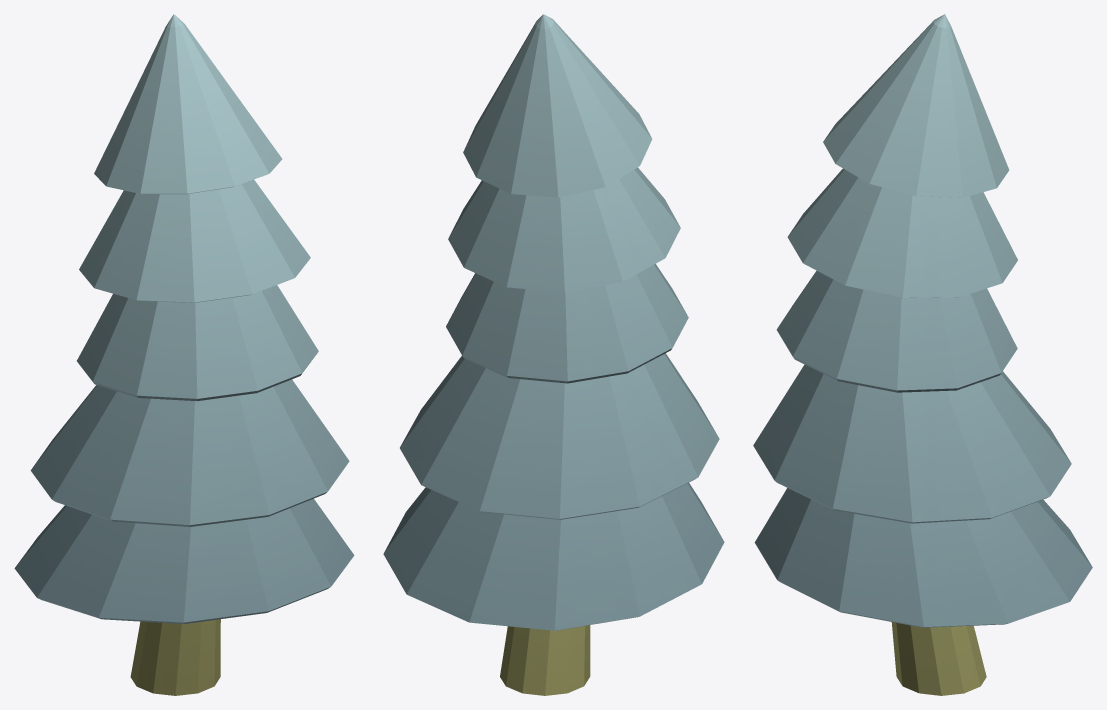
The model's file is SM_FrozenTree1.fbx.
3 views of the same model, side by side, from view 1: azimuth 30°, elevation 25°; view 2: azimuth 150°, elevation 25°; view 3: azimuth 270°, elevation 25° (orthographic).
Parts seen in each view (by area): view 1: SM_FrozenTree1; view 2: SM_FrozenTree1; view 3: SM_FrozenTree1.
Boxes of the visible parts, x1,y1,x2,y2 form: SM_FrozenTree1: (14,14,354,695); SM_FrozenTree1: (383,14,724,695); SM_FrozenTree1: (753,14,1092,695).
Bounding box in the file's own units: 379 × 811 × 377.
